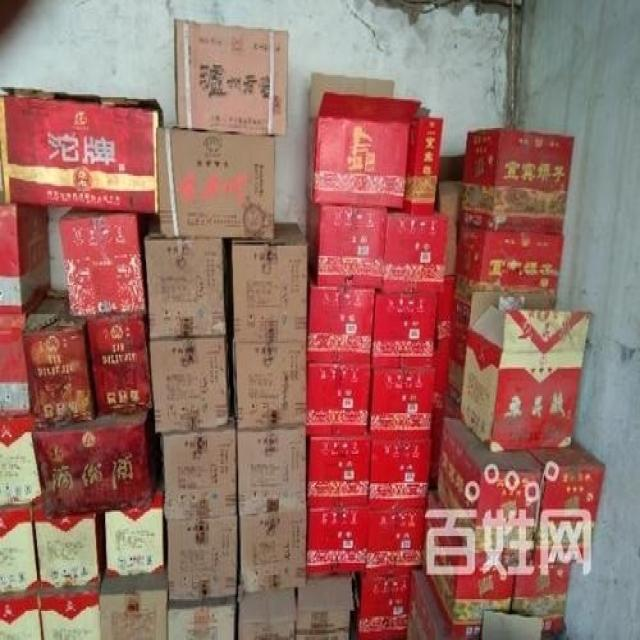box: (460, 288, 592, 451), (0, 86, 163, 211), (306, 75, 422, 208), (438, 414, 547, 549), (427, 475, 519, 626), (36, 407, 164, 515), (173, 19, 289, 137), (154, 130, 275, 239), (459, 126, 576, 233), (57, 205, 158, 316), (23, 285, 98, 428), (144, 216, 225, 339), (453, 223, 564, 307), (234, 220, 310, 339), (535, 436, 606, 555), (306, 196, 387, 290), (150, 332, 227, 427), (164, 425, 238, 520), (428, 273, 461, 480), (87, 311, 153, 413), (234, 424, 308, 514), (233, 338, 308, 425), (0, 200, 54, 314), (306, 278, 374, 367), (105, 479, 165, 579), (168, 517, 238, 601), (33, 506, 101, 587), (238, 511, 307, 590), (512, 551, 574, 636), (410, 570, 486, 638), (306, 434, 372, 509), (371, 292, 436, 365), (386, 212, 447, 289), (97, 574, 169, 638), (0, 410, 46, 510), (306, 364, 372, 433), (306, 507, 371, 577), (373, 366, 435, 436), (403, 108, 443, 213), (370, 436, 430, 506), (355, 572, 416, 638), (293, 574, 356, 637), (368, 504, 427, 571), (40, 580, 104, 638), (0, 508, 41, 598), (236, 586, 296, 638), (0, 314, 30, 411), (446, 299, 472, 407), (168, 598, 238, 638), (439, 180, 466, 276), (0, 586, 43, 638), (485, 611, 544, 638)
